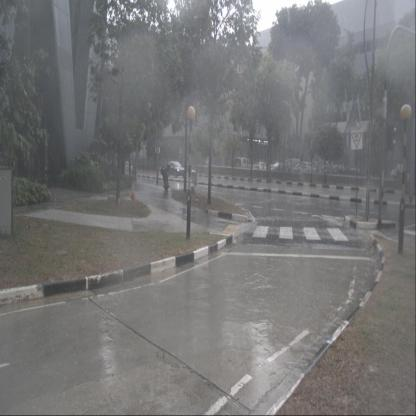movable_object-trafficcone: (131, 181, 137, 202)
vehicle-car: (166, 161, 186, 178), (250, 158, 271, 174), (316, 162, 338, 176), (282, 159, 301, 175), (271, 158, 287, 176), (232, 155, 250, 171), (294, 162, 314, 174), (391, 169, 405, 180), (124, 162, 134, 171)
vehicle-motorcycle: (158, 164, 172, 194)
